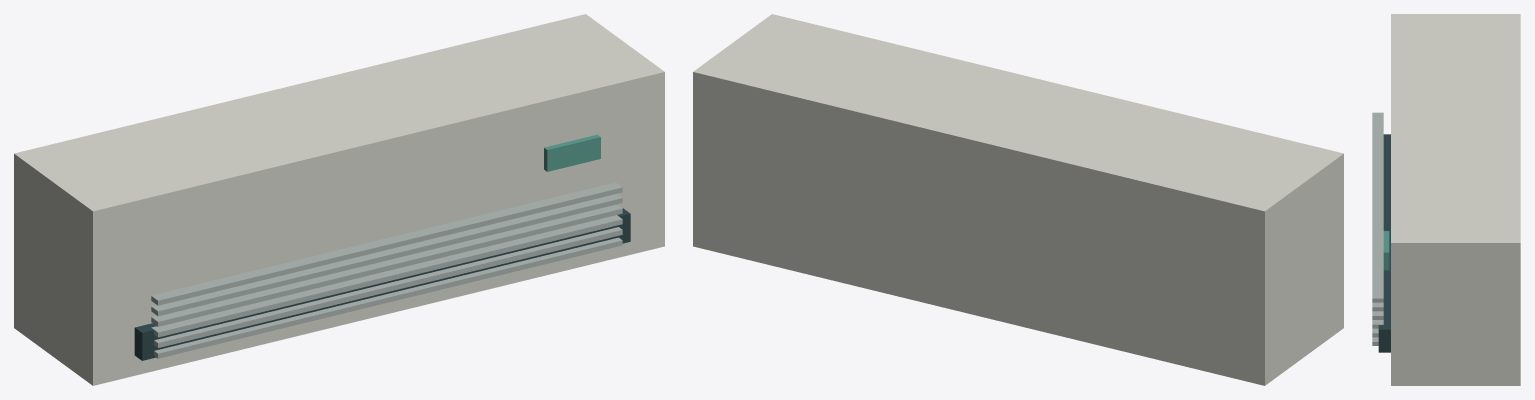
The model's file is wall_air_conditioner.glb.
3 renders of one model, left to right at view 1: azimuth 30°, elevation 25°; view 2: azimuth 150°, elevation 25°; view 3: azimuth 270°, elevation 25°, orthographic. The views are drawn at different scales.
Visible parts, largest first — view 1: housing, louvre-5, louvre-4, louvre-3, louvre-2, louvre-0, louvre-1, air-outlet, STATE_DISPLAY; view 2: housing; view 3: housing, louvre-5, air-outlet, STATE_DISPLAY.
Part boxes in pixels (x1=…): housing: x1=14, y1=14, x2=664, y2=385; louvre-5: x1=151, y1=182, x2=622, y2=305; louvre-4: x1=151, y1=194, x2=622, y2=316; louvre-3: x1=151, y1=204, x2=622, y2=326; louvre-2: x1=151, y1=215, x2=622, y2=337; louvre-0: x1=154, y1=237, x2=622, y2=358; louvre-1: x1=154, y1=227, x2=622, y2=347; air-outlet: x1=134, y1=208, x2=630, y2=360; STATE_DISPLAY: x1=544, y1=134, x2=600, y2=171; housing: x1=693, y1=14, x2=1343, y2=385; housing: x1=1391, y1=14, x2=1520, y2=385; louvre-5: x1=1372, y1=112, x2=1383, y2=302; air-outlet: x1=1378, y1=134, x2=1390, y2=352; STATE_DISPLAY: x1=1383, y1=231, x2=1389, y2=270.
Size of the model in its own units: 0.96 by 0.28 by 0.263.
